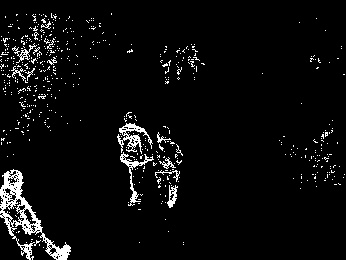person: (1, 167, 71, 260), (118, 110, 155, 208), (153, 123, 183, 207)
